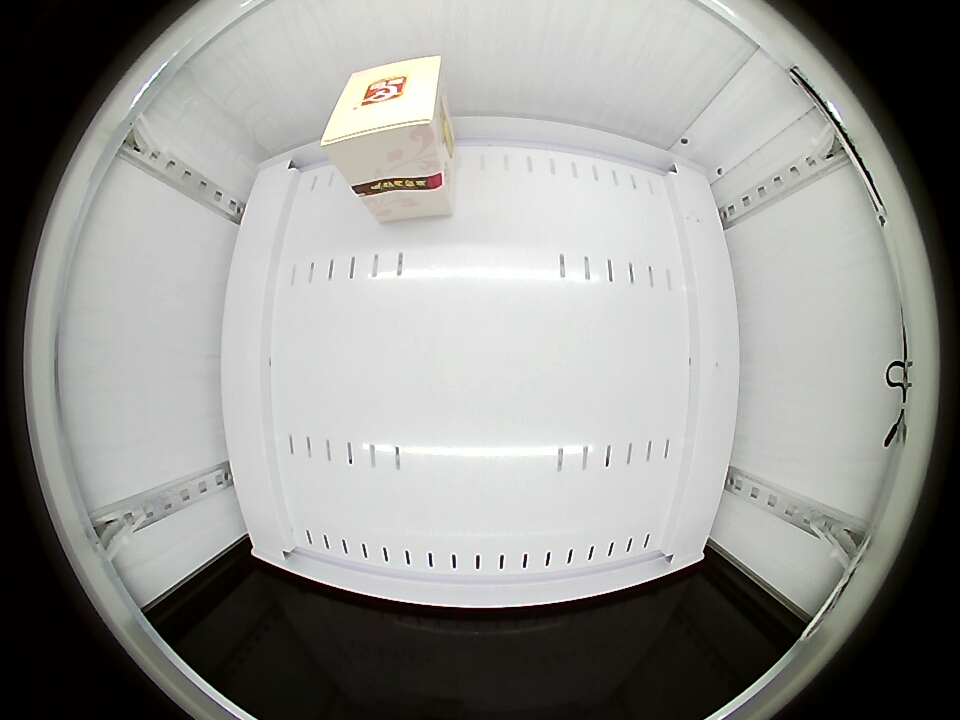rousongbing: (320, 55, 448, 188)
